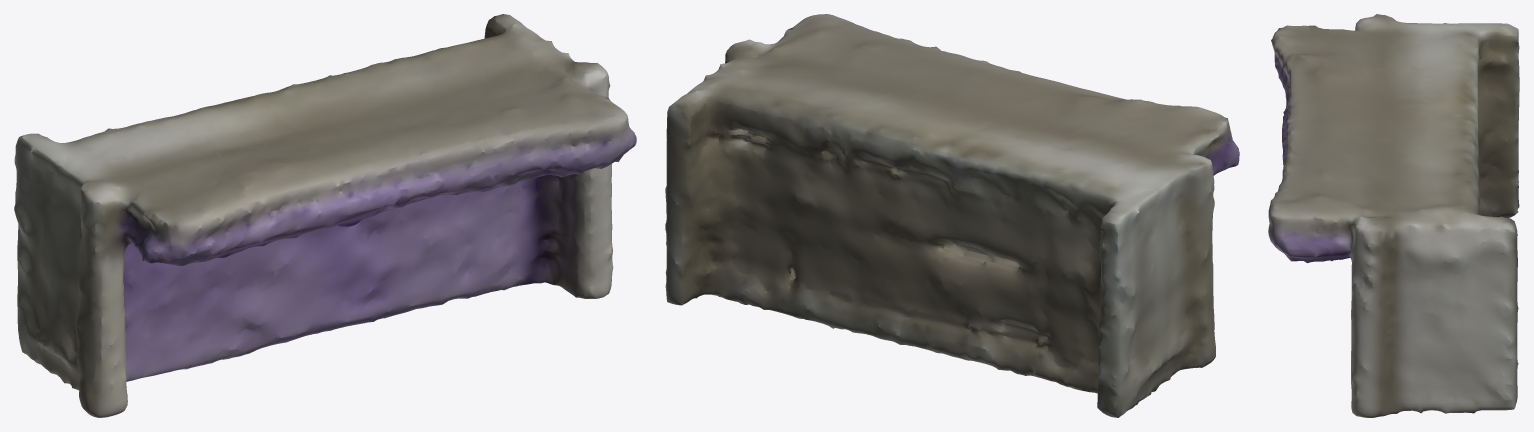
File: sofa.glb
3 views of the same model, side by side, from view 1: azimuth 30°, elevation 25°; view 2: azimuth 150°, elevation 25°; view 3: azimuth 270°, elevation 25° (orthographic). The views are drawn at different scales.
Size of the model in its own units: 0.9951 by 0.4277 by 0.4797.
